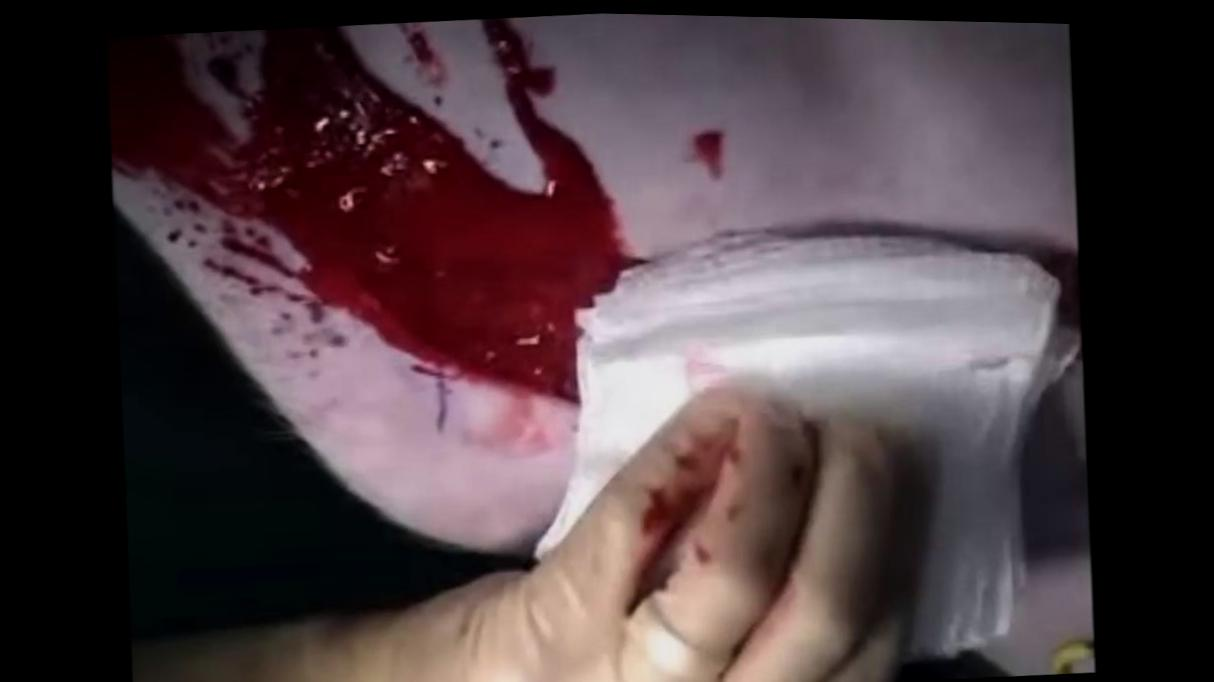Fire: (107, 15, 635, 406), (597, 410, 781, 612), (694, 127, 725, 177)
